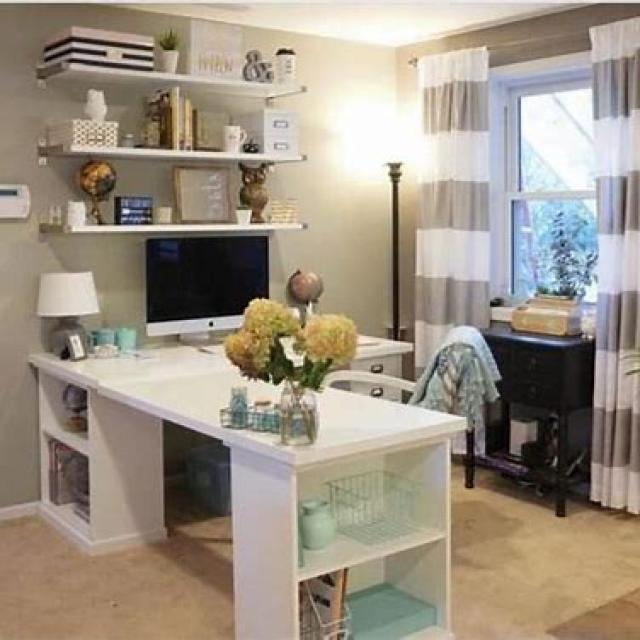table: (14, 317, 476, 517)
